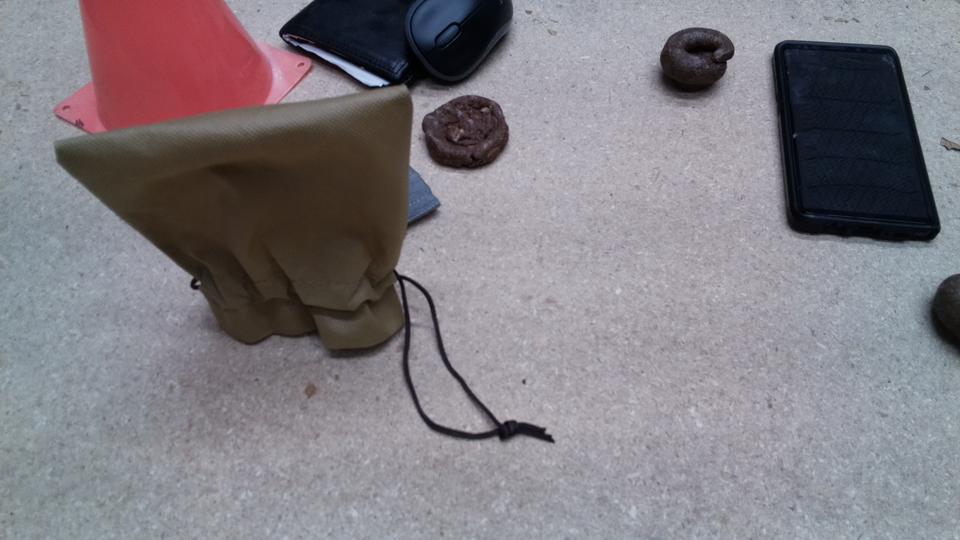poop: (418, 90, 512, 173), (657, 24, 736, 95), (930, 269, 960, 350)
